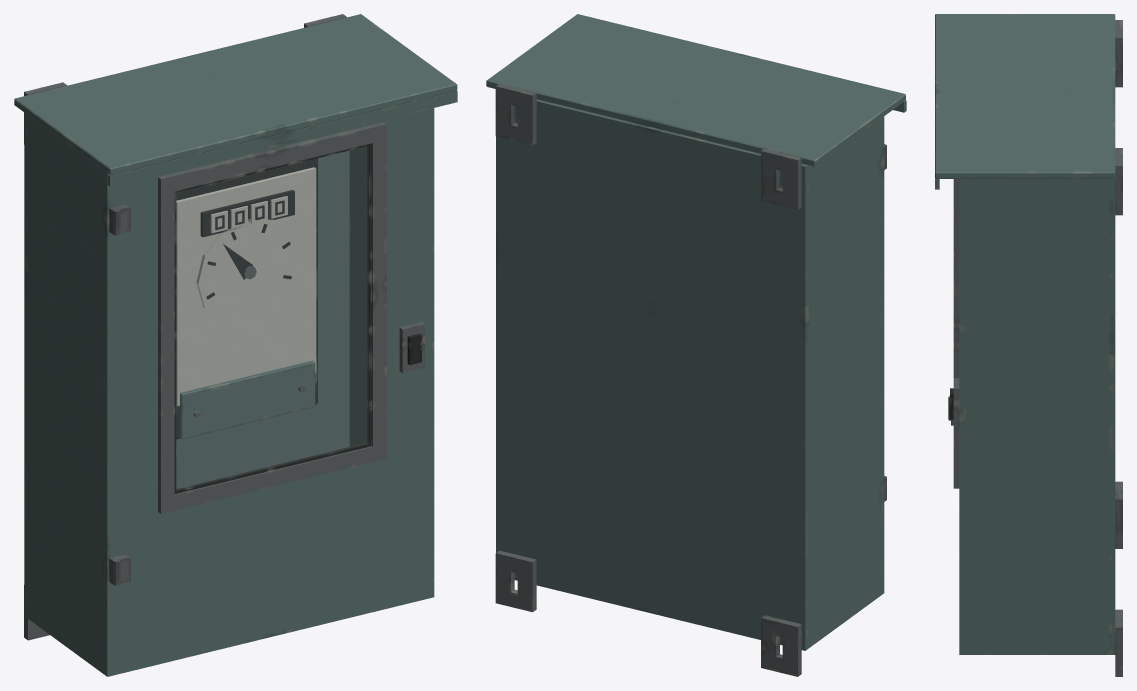
The model's file is wall_electric_meter_single.glb.
3 renders of one model, left to right at view 1: azimuth 30°, elevation 25°; view 2: azimuth 150°, elevation 25°; view 3: azimuth 270°, elevation 25°, orthographic. The views are drawn at different scales.
Parts seen in each view (by area): view 1: WallElectricMeterSingle, WallElectricMeterSingleGlass; view 2: WallElectricMeterSingle; view 3: WallElectricMeterSingle.
Part boxes in pixels (bbox=[...]): WallElectricMeterSingle: bbox=[14, 14, 457, 676]; WallElectricMeterSingleGlass: bbox=[177, 146, 368, 489]; WallElectricMeterSingle: bbox=[486, 14, 906, 676]; WallElectricMeterSingle: bbox=[935, 14, 1122, 676].
Bounding box in the file's own units: 0.4 × 0.6 × 0.2.
Materials: 2 (1 with a texture image).
